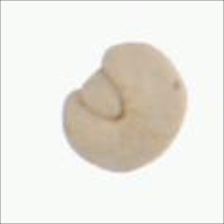L5: (68, 64, 134, 125), (139, 112, 190, 172)
L6: (59, 37, 192, 181)
